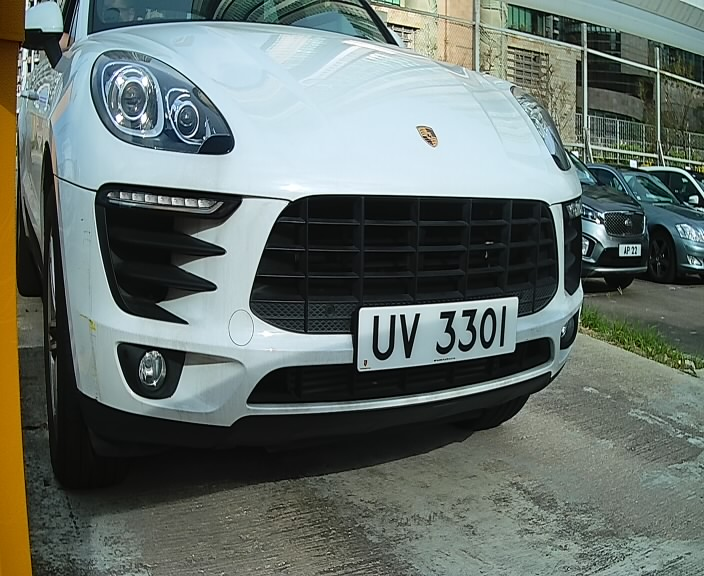Car: (2, 2, 614, 468)
License Plate: (346, 288, 531, 381)
